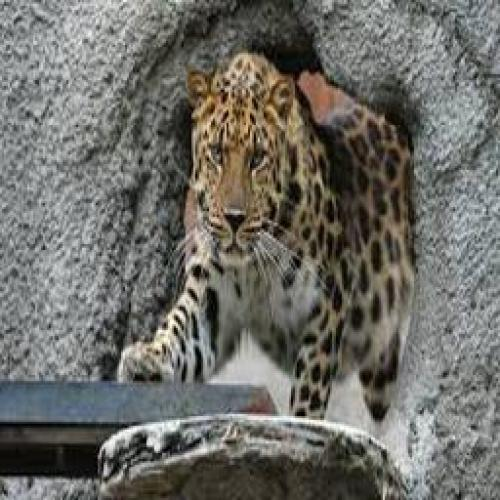amur_leopard-endangered: (110, 48, 414, 414)
